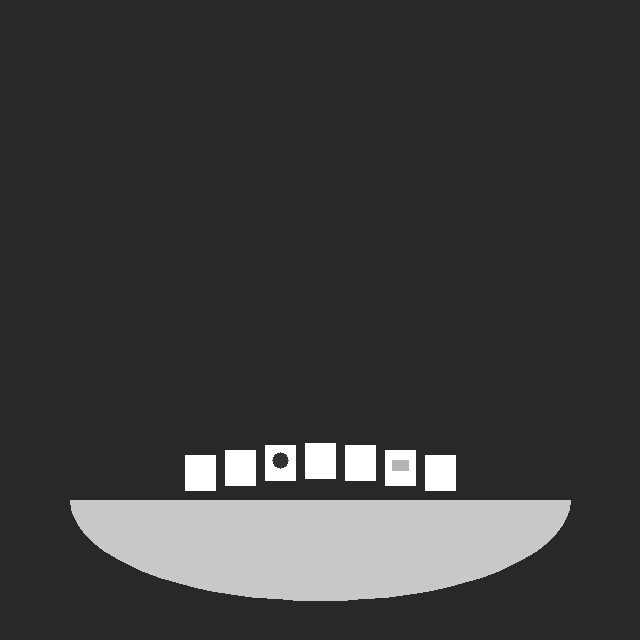caries: (272, 458, 288, 474)
filling: (392, 461, 408, 471)
tooth: (185, 462, 215, 498), (305, 450, 335, 486), (345, 452, 375, 488), (425, 462, 455, 498), (265, 458, 295, 493), (385, 458, 415, 493)
